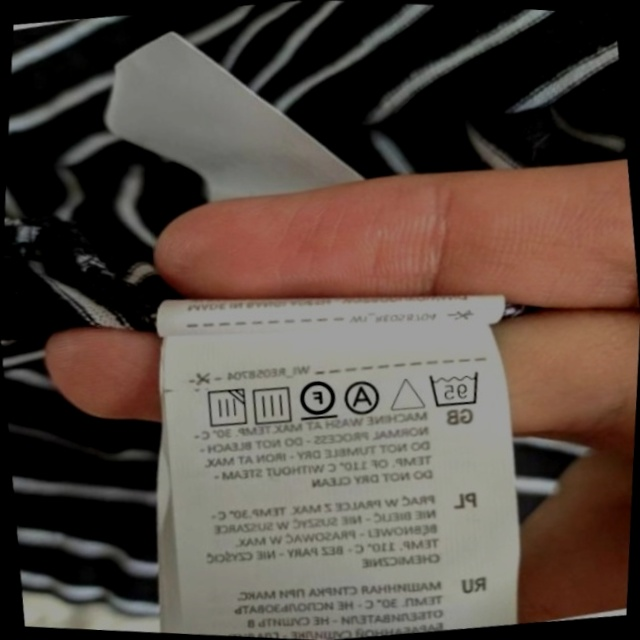95C: (422, 363, 486, 414)
bleach: (385, 369, 428, 417)
drip_dry: (246, 379, 298, 430)
drip_dry_in_shade: (198, 382, 251, 435)
dry_clean: (340, 375, 386, 419)
dry_clean_petrol_only: (293, 372, 341, 425)
